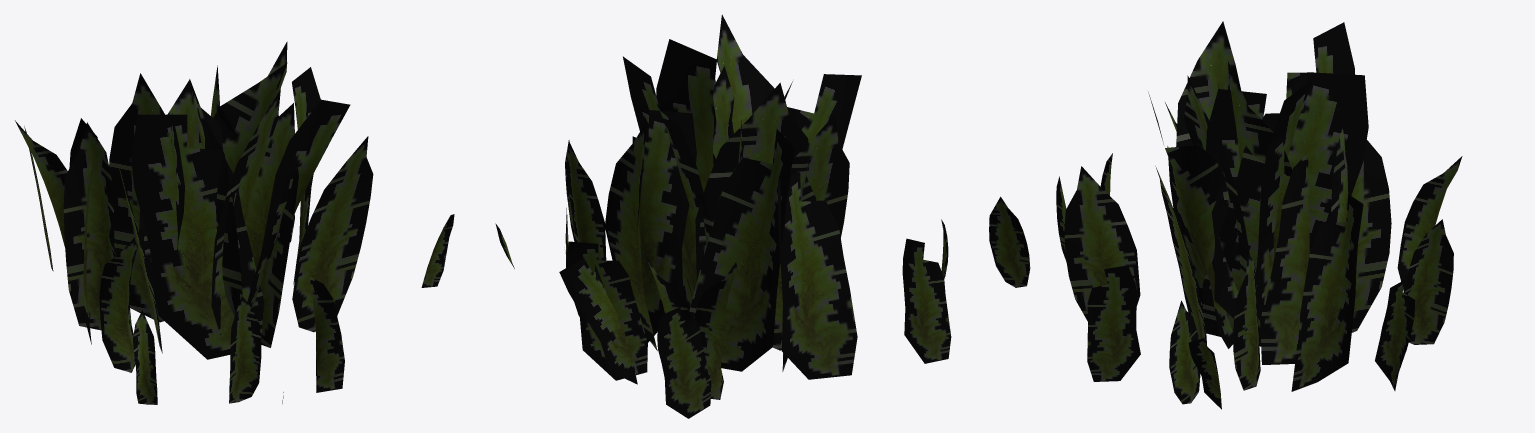
The model's file is GreenAlgae03-transformed.glb.
The picture shows the model from 3 angles, left to right: view 1: azimuth 30°, elevation 25°; view 2: azimuth 150°, elevation 25°; view 3: azimuth 270°, elevation 25°; orthographic projection. The views are drawn at different scales.
Visible parts, largest first — view 1: GreenAlgae03; view 2: GreenAlgae03; view 3: GreenAlgae03.
Part boxes in pixels (x1,y1,x2,y2): GreenAlgae03: [15, 41, 454, 404]; GreenAlgae03: [495, 14, 951, 418]; GreenAlgae03: [989, 21, 1462, 409].
Bounding box in the file's own units: 1.04 × 0.7436 × 1.11.
1 material, 1 textured.
